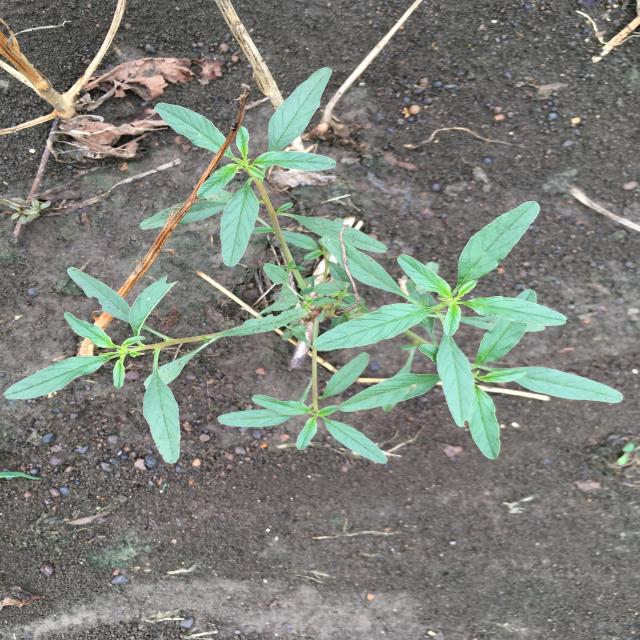Waterhemp: (5, 67, 623, 463)
